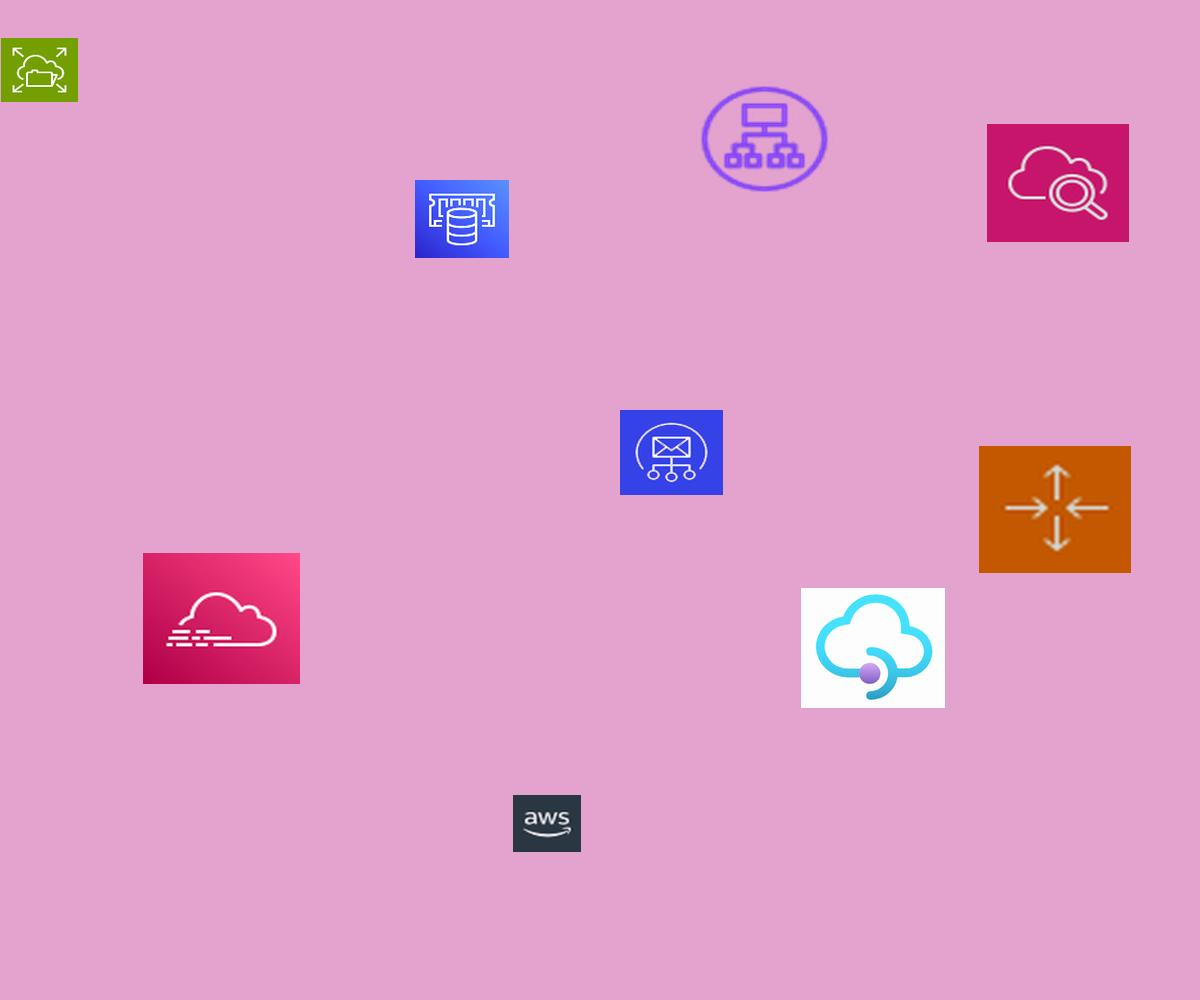AWS-Cloud-logo: (513, 795, 581, 852)
AWS-CloudTrail: (143, 553, 300, 684)
AWS-CloudWatch: (987, 124, 1129, 242)
AWS-EFS: (1, 38, 78, 102)
AWS-ElastiCache: (415, 180, 509, 258)
AWS-Res_Elastic-Load-Balancing_Application-Load-Balancer: (696, 82, 833, 196)
AWS-Scaling-group: (979, 446, 1131, 573)
AWS-Simple-Email-Service: (620, 410, 723, 495)
Azure_api_gateway: (801, 588, 945, 708)
